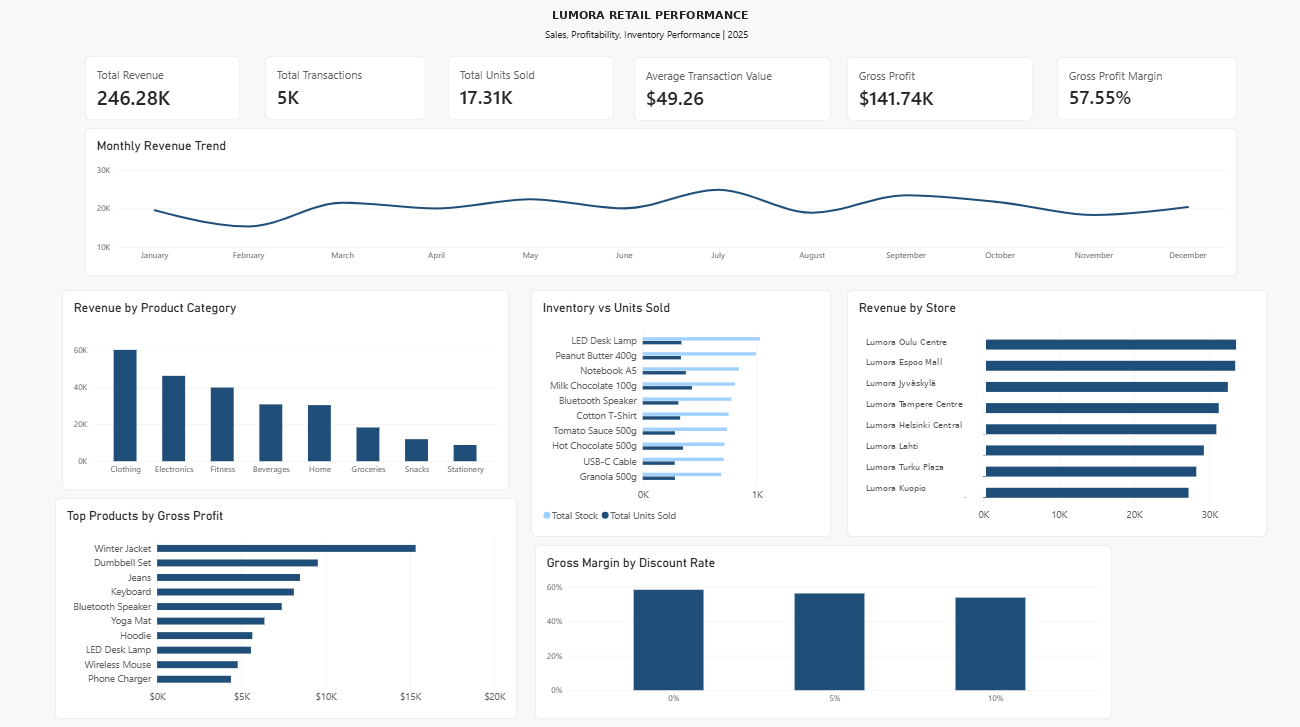

The page's visual inventory and layout, read from the dashboard file:
{"tool":"powerbi","page":{"name":"Executive Overview","canvas":[1920,1080],"ordinal":0},"visuals":[{"type":"cardVisual","fields":{"Data":["public sales.Total Revenue"]},"box":[132.8,89,226.1,93.4],"z":0},{"type":"cardVisual","fields":{"Data":["public sales.Total Transactions"]},"box":[395.4,89,234.9,93.4],"z":1000},{"type":"cardVisual","fields":{"Data":["public sales.Average Transaction Value"]},"box":[933.7,90.5,287.4,93.4],"z":2000},{"type":"cardVisual","fields":{"Data":["public sales.Total Units Sold"]},"box":[662.4,89,242.2,93.4],"z":3000},{"type":"cardVisual","fields":{"Data":["public sales.Gross Profit"]},"box":[1244.5,90.5,271.4,93.4],"z":4000},{"type":"cardVisual","fields":{"Data":["public sales.Gross Profit Margin"]},"box":[1550.9,90.5,262.6,91.9],"z":5000},{"type":"lineChart","title":"Monthly Revenue Trend","fields":{"Category":["public sales.sale_date.Variation.Date Hierarchy.Year","public sales.sale_date.Variation.Date Hierarchy.Quarter","public sales.sale_date.Variation.Date Hierarchy.Month","public sales.sale_date.Variation.Date Hierarchy.Day"],"Y":["public sales.Total Revenue"]},"box":[132.8,194,1680.7,215.9],"z":6000},{"type":"clusteredColumnChart","title":"Revenue by Product Category","fields":{"Category":["public products.category"],"Y":["public sales.Total Revenue"]},"box":[99.2,430.4,652.2,291.8],"z":7000},{"type":"clusteredBarChart","title":"Revenue by Store","fields":{"Category":["public stores.store_name"],"Y":["public sales.Total Revenue"]},"box":[1244.5,430.4,612.8,360.4],"z":8000},{"type":"clusteredBarChart","title":"Top Products by Gross Profit","fields":{"Category":["public products.product_name"],"Y":["public sales.Gross Profit"]},"box":[89,733.9,674,322.4],"z":9000},{"type":"clusteredBarChart","title":"Inventory vs Units Sold","fields":{"Category":["public products.product_name"],"Y":["public inventory.Total Stock","public sales.Total Units Sold"]},"box":[783.5,430.4,437.7,360.4],"z":10000},{"type":"clusteredColumnChart","title":"Gross Margin by Discount Rate","fields":{"Category":["public sales.Discount Rate Label"],"Y":["public sales.Gross Profit Margin"]},"box":[789.3,802.4,841.8,253.9],"z":11000},{"type":"textbox","box":[794.4,20.7,331.2,27.2],"z":12000},{"type":"textbox","box":[803.9,48.1,310.8,24.8],"z":13000}]}

Visuals, with their boxes in screenshot pixels (x1, y1, x2, y2), scaled from the page's 1920x1080 canvas onto the 1300x727 screenshot:
cardVisual - public sales.Total Revenue: [left=90, top=60, right=243, bottom=123]
cardVisual - public sales.Total Transactions: [left=268, top=60, right=427, bottom=123]
cardVisual - public sales.Average Transaction Value: [left=632, top=61, right=827, bottom=124]
cardVisual - public sales.Total Units Sold: [left=448, top=60, right=612, bottom=123]
cardVisual - public sales.Gross Profit: [left=843, top=61, right=1026, bottom=124]
cardVisual - public sales.Gross Profit Margin: [left=1050, top=61, right=1228, bottom=123]
"Monthly Revenue Trend" lineChart: [left=90, top=131, right=1228, bottom=276]
"Revenue by Product Category" clusteredColumnChart: [left=67, top=290, right=509, bottom=486]
"Revenue by Store" clusteredBarChart: [left=843, top=290, right=1258, bottom=532]
"Top Products by Gross Profit" clusteredBarChart: [left=60, top=494, right=517, bottom=711]
"Inventory vs Units Sold" clusteredBarChart: [left=530, top=290, right=827, bottom=532]
"Gross Margin by Discount Rate" clusteredColumnChart: [left=534, top=540, right=1104, bottom=711]
textbox: [left=538, top=14, right=762, bottom=32]
textbox: [left=544, top=32, right=755, bottom=49]
